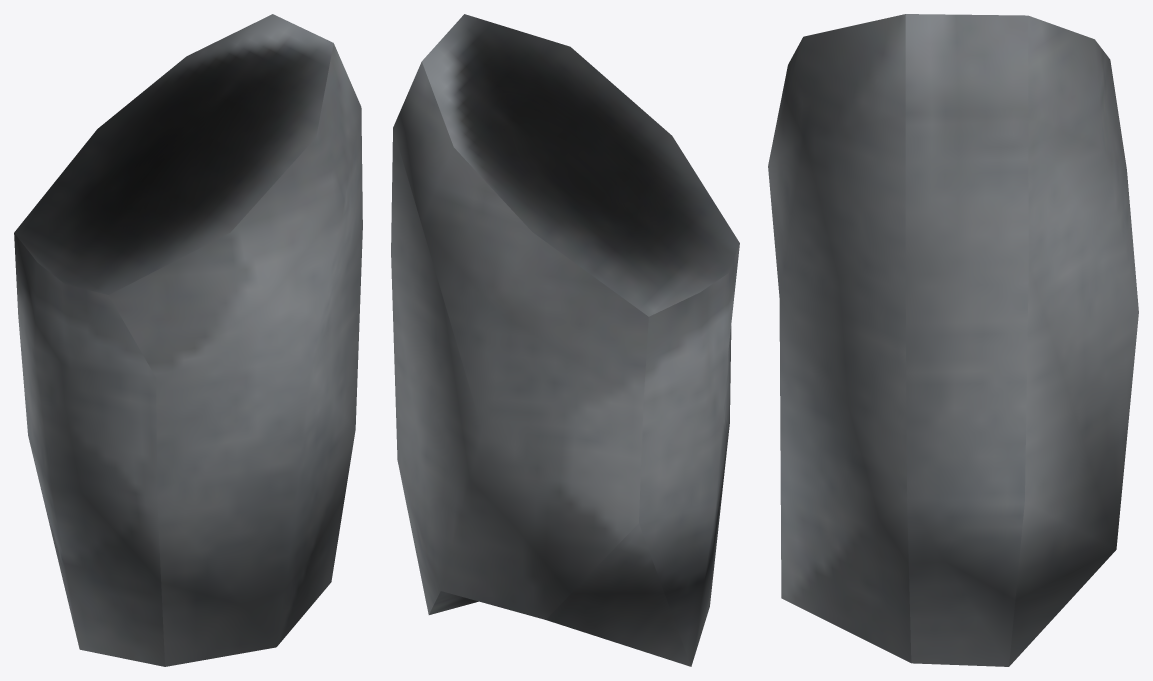
Rendered from grave_marine_thigh_l.glb.
The picture shows the model from 3 angles, left to right: view 1: azimuth 30°, elevation 25°; view 2: azimuth 150°, elevation 25°; view 3: azimuth 270°, elevation 25°; orthographic projection. The views are drawn at different scales.
Visible parts, largest first — view 1: scythe_marine_thigh_l; view 2: scythe_marine_thigh_l; view 3: scythe_marine_thigh_l.
Part boxes in pixels (<box>): scythe_marine_thigh_l: <box>14,14,362,666</box>; scythe_marine_thigh_l: <box>391,14,739,666</box>; scythe_marine_thigh_l: <box>768,14,1138,666</box>.
Size of the model in its own units: 0.9299 by 1.7 by 0.8465.
1 material, 1 textured.
